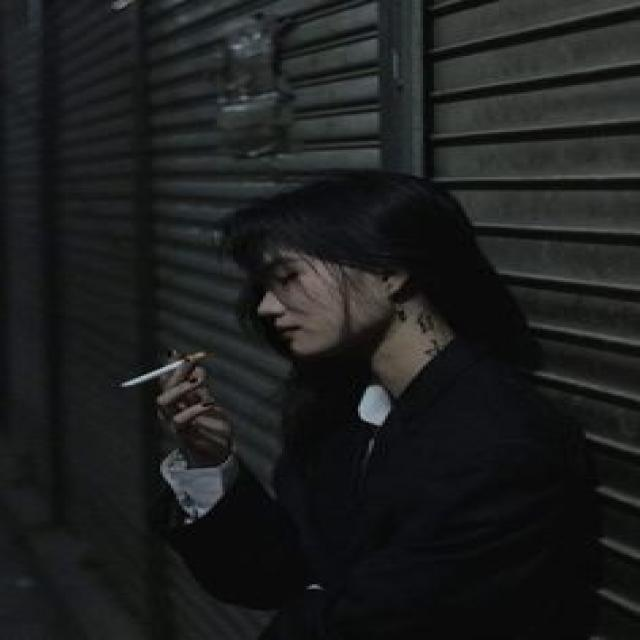rokok: (117, 351, 211, 389)
